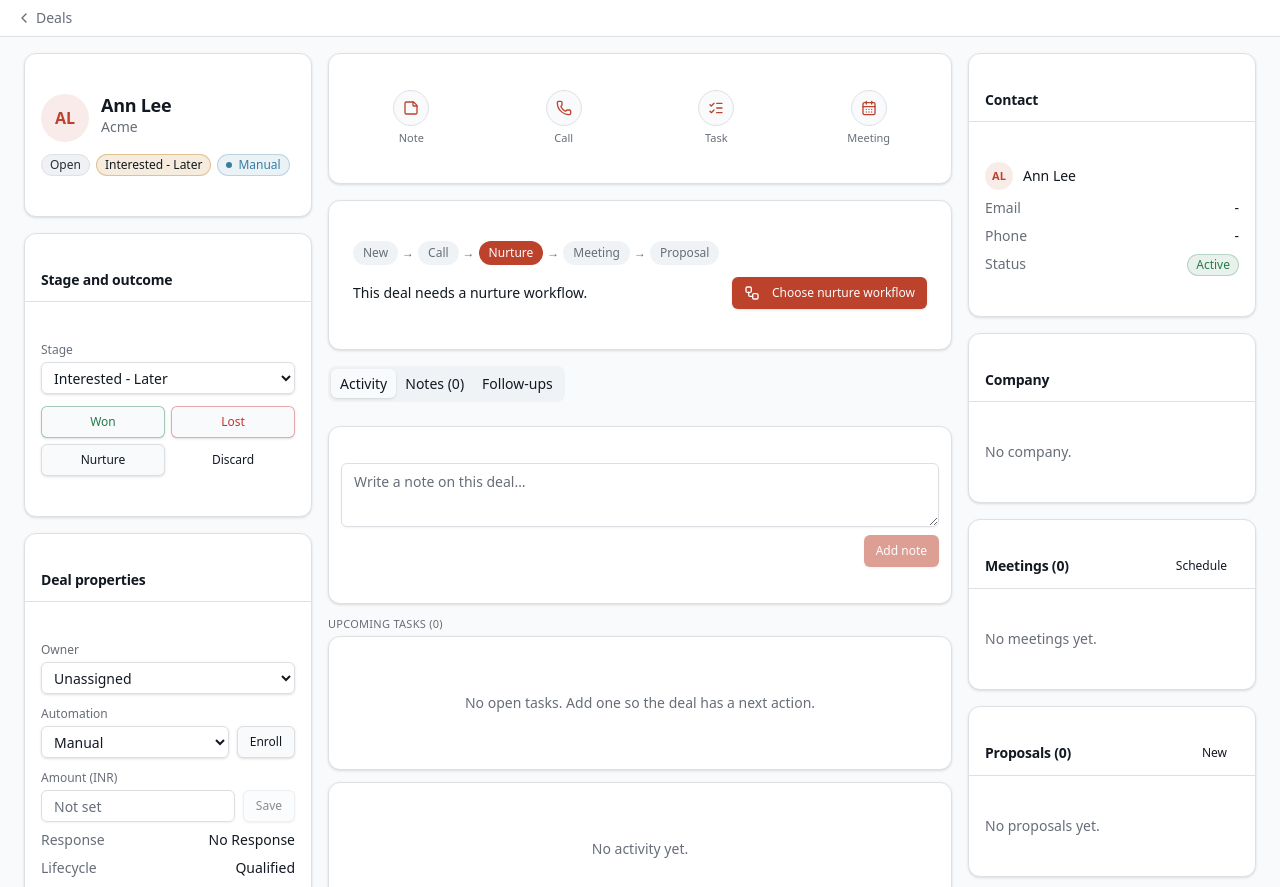
Test: deal page › enroll offers the workflow for the deal's nurture stage
Click the button "Enroll": (266, 742) left=237, top=726, right=295, bottom=758
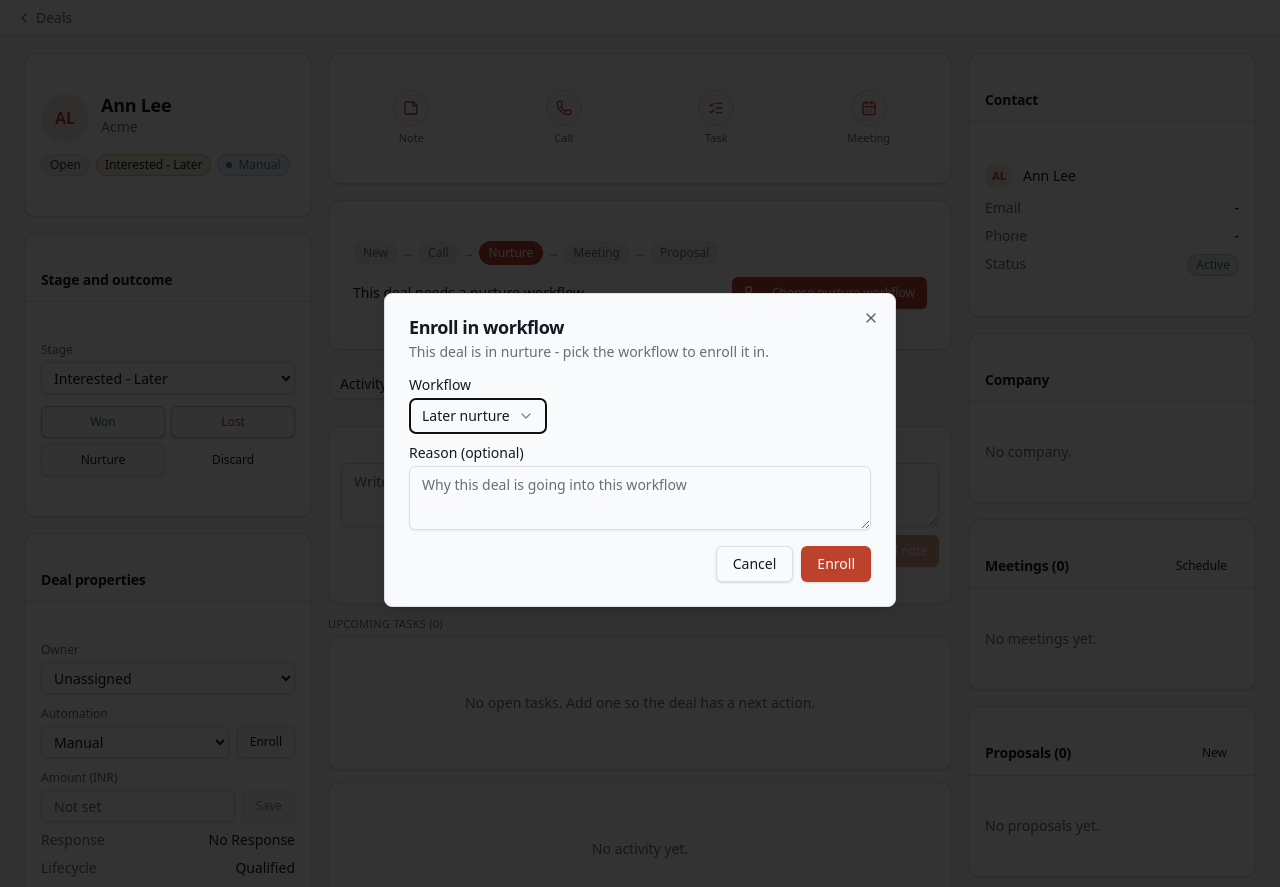
Now the text "This deal is in nurture - pick the workflow to enroll it in." is shown, box left=409, top=342, right=769, bottom=361
